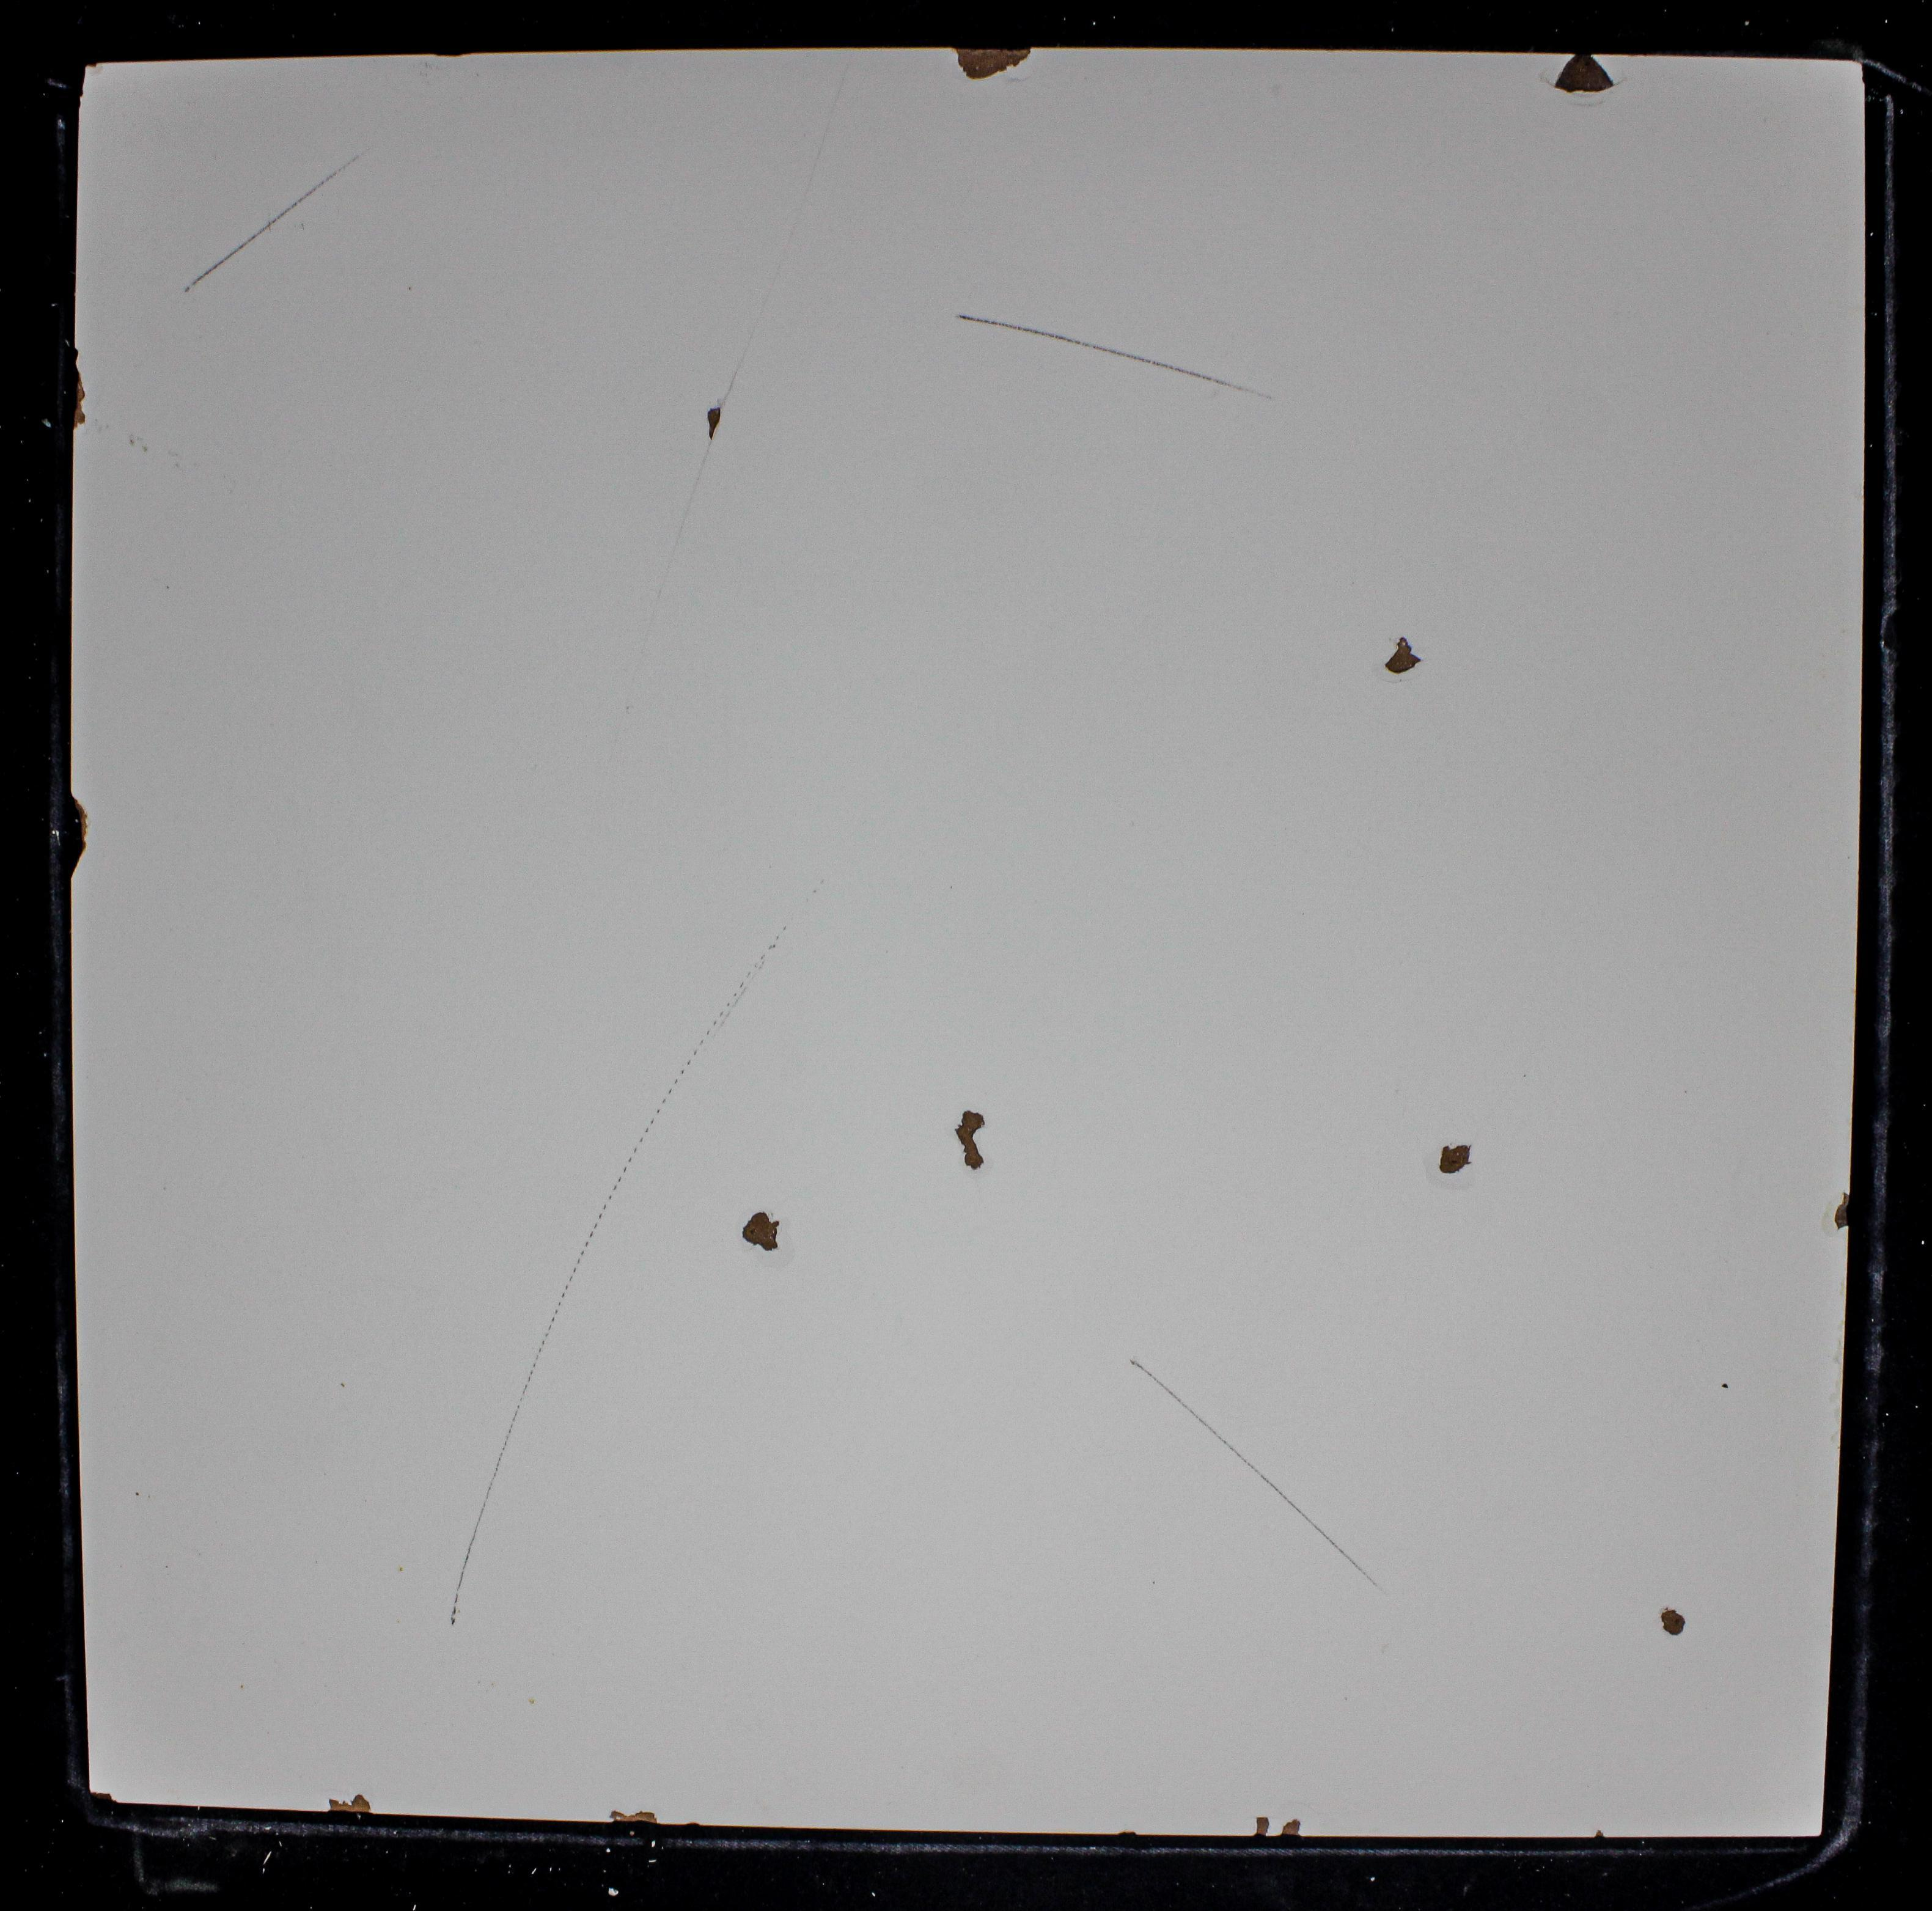edge-chipping: (950, 40, 1036, 84), (1552, 45, 1617, 98), (68, 791, 89, 882), (68, 345, 87, 432), (327, 1794, 373, 1816), (609, 1808, 660, 1827), (1834, 1192, 1853, 1230), (73, 61, 87, 114), (1279, 1818, 1304, 1839), (89, 1790, 119, 1806), (1255, 1816, 1270, 1839), (1594, 1829, 1605, 1837)
hole: (950, 1106, 989, 1172), (738, 1207, 780, 1253), (1381, 632, 1423, 677), (1435, 1139, 1475, 1179), (702, 401, 724, 443), (1661, 1608, 1687, 1638)
line: (450, 1199, 611, 1617), (1127, 1358, 1382, 1591), (609, 933, 789, 1183), (182, 154, 360, 290), (955, 313, 1248, 395)
